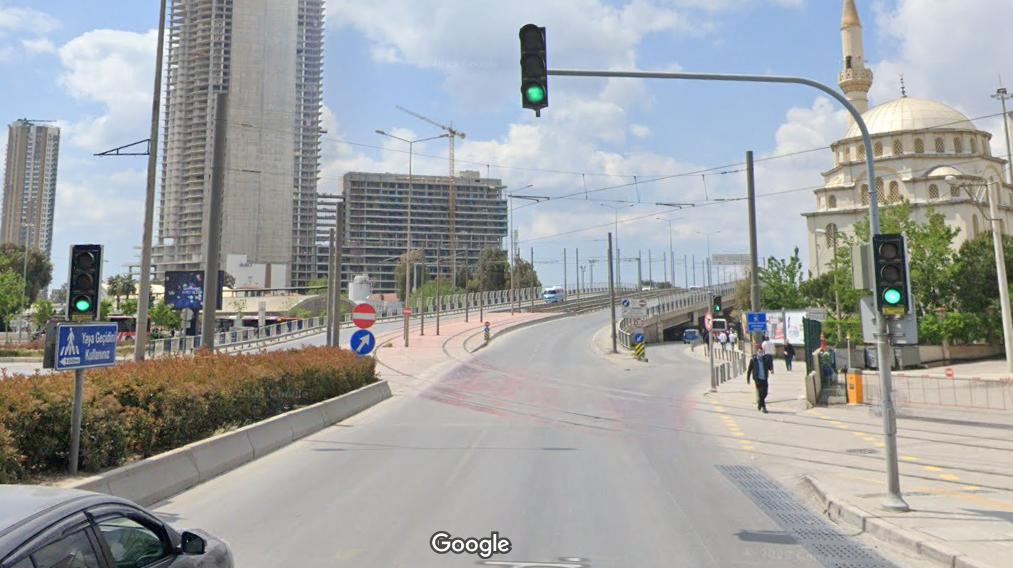greenlight: (874, 234, 911, 315), (518, 23, 546, 111), (67, 244, 100, 315), (716, 296, 722, 315)
rightturnsareforbidden: (704, 314, 713, 331)
